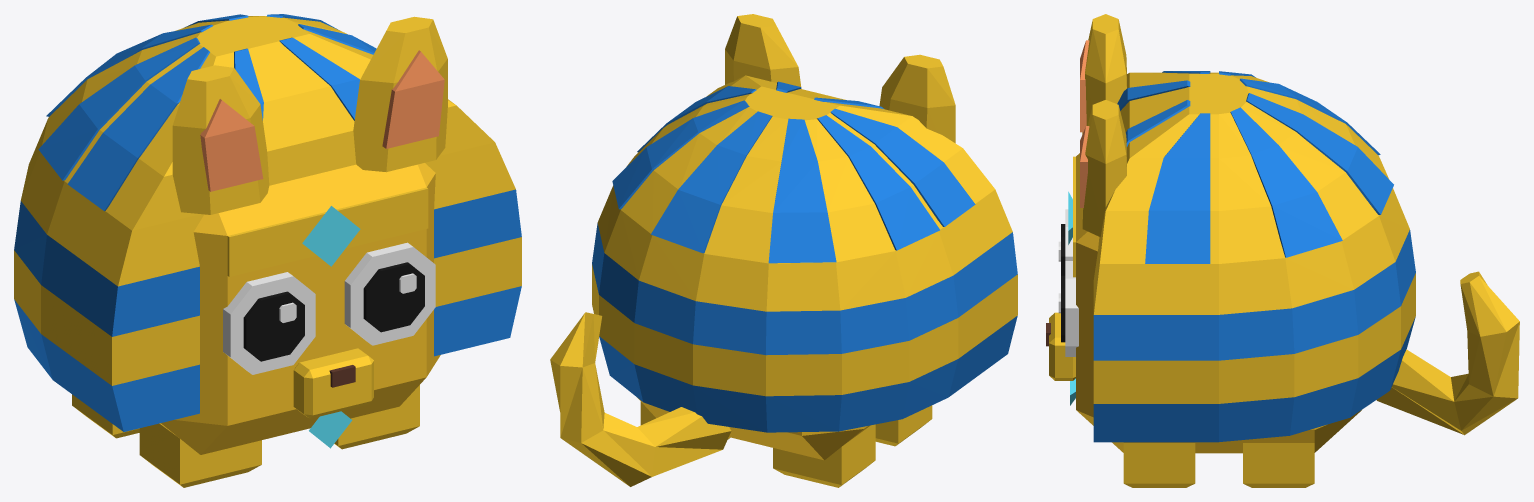
File: Sphinx.fbx
3 renders of one model, left to right at view 1: azimuth 30°, elevation 25°; view 2: azimuth 150°, elevation 25°; view 3: azimuth 270°, elevation 25°, orthographic. The views are drawn at different scales.
Visible parts, largest first — view 1: Sphinx_Gold, Sphinx_Blue, Sphinx, Sphinx_Eyes, Sphinx_EarInner, Sphinx_Pupils, Sphinx_Gems; view 2: Sphinx_Gold, Sphinx_Blue, Sphinx_Tail, Sphinx; view 3: Sphinx_Gold, Sphinx_Blue, Sphinx_Tail, Sphinx, Sphinx_Eyes, Sphinx_EarInner, Sphinx_Pupils.
Boxes of the visible parts, x1=… form: Sphinx_Gold: x1=14, y1=16, x2=521, y2=487; Sphinx_Blue: x1=14, y1=14, x2=521, y2=431; Sphinx: x1=159, y1=163, x2=440, y2=454; Sphinx_Eyes: x1=223, y1=242, x2=435, y2=374; Sphinx_EarInner: x1=200, y1=50, x2=444, y2=191; Sphinx_Pupils: x1=243, y1=262, x2=424, y2=361; Sphinx_Gems: x1=302, y1=206, x2=360, y2=448; Sphinx_Gold: x1=592, y1=14, x2=1017, y2=487; Sphinx_Blue: x1=592, y1=81, x2=1017, y2=432; Sphinx_Tail: x1=550, y1=312, x2=731, y2=486; Sphinx: x1=637, y1=397, x2=870, y2=460; Sphinx_Gold: x1=1049, y1=14, x2=1415, y2=487; Sphinx_Blue: x1=1093, y1=71, x2=1415, y2=442; Sphinx_Tail: x1=1376, y1=271, x2=1519, y2=435; Sphinx: x1=1076, y1=153, x2=1361, y2=453; Sphinx_Eyes: x1=1058, y1=209, x2=1078, y2=356; Sphinx_EarInner: x1=1080, y1=40, x2=1089, y2=207; Sphinx_Pupils: x1=1061, y1=224, x2=1065, y2=342.
Size of the model in its own units: 2.8 by 2.76 by 3.18.
